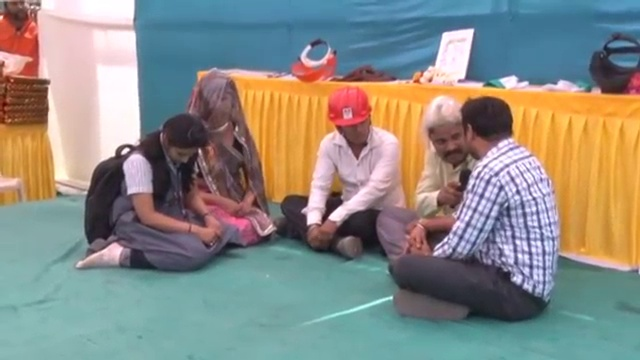helmet: (326, 87, 376, 129), (0, 51, 36, 79)
helmet_off: (459, 95, 516, 168), (421, 96, 469, 165), (190, 72, 243, 134), (155, 114, 208, 170), (0, 0, 38, 32)
helmet_on: (325, 86, 380, 146)
person: (390, 95, 561, 319), (74, 111, 229, 273), (276, 76, 407, 260), (180, 67, 273, 249), (379, 93, 479, 257), (0, 0, 45, 77)
